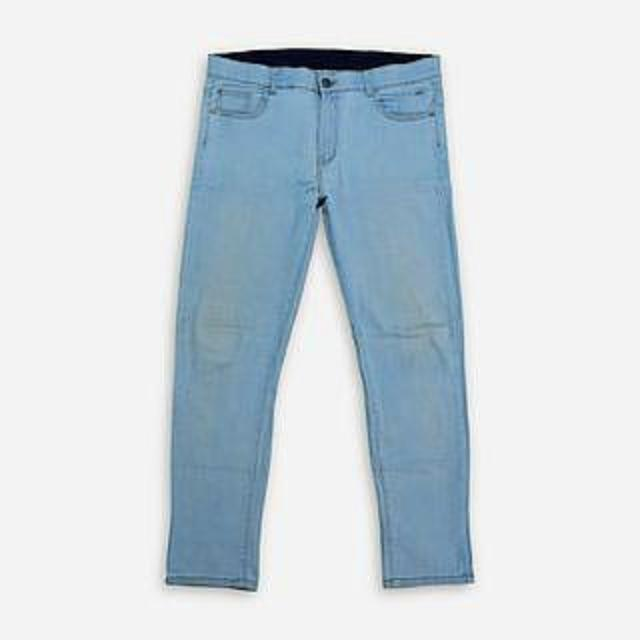TROUSER: (112, 39, 533, 600)
